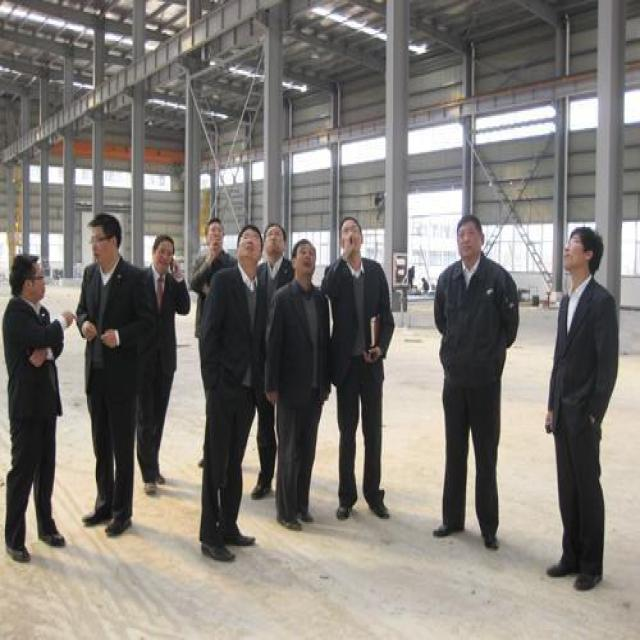no-helmet: (562, 222, 603, 281), (86, 208, 125, 270), (10, 251, 49, 309), (453, 210, 487, 264), (292, 234, 322, 287), (338, 212, 365, 262), (235, 223, 262, 270), (261, 219, 288, 261), (150, 232, 177, 273), (202, 212, 227, 251)
